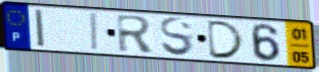6: (249, 22, 284, 64)
D: (206, 19, 247, 61)
I: (33, 8, 48, 49), (90, 11, 101, 52)
R: (114, 13, 157, 55)
S: (158, 16, 196, 58)
